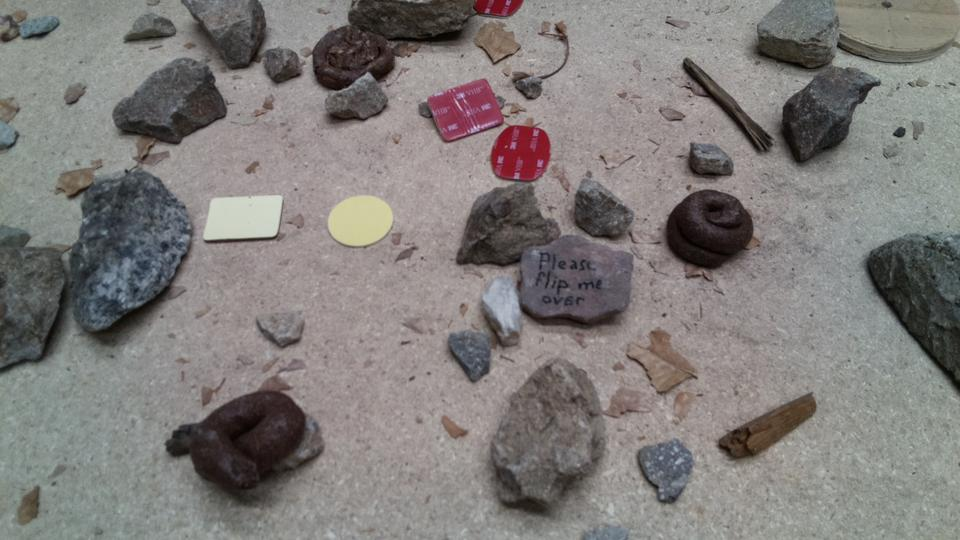poop: (187, 387, 305, 497), (664, 186, 755, 269), (310, 23, 398, 93)
